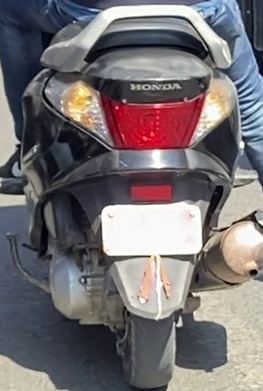license_plate: (100, 201, 202, 256)
